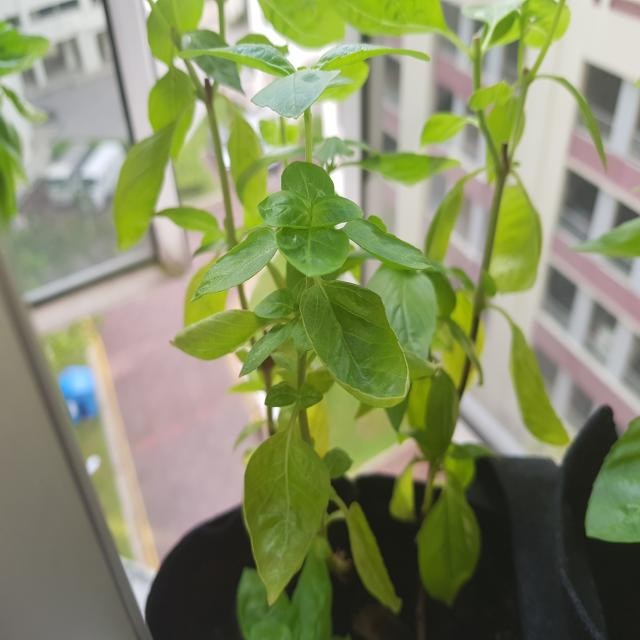Sweet Basil: (124, 8, 550, 640)
